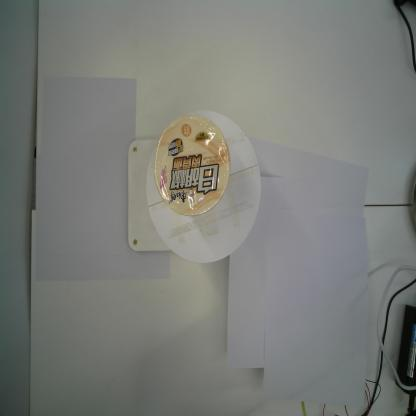Instant Noodles: (153, 113, 231, 219)
